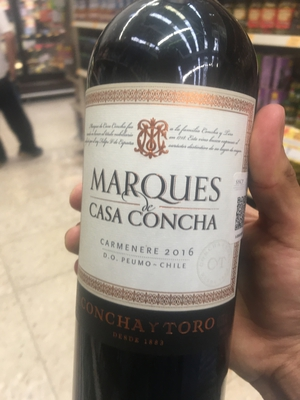marques de casa concha carmenere: (70, 2, 283, 400)
